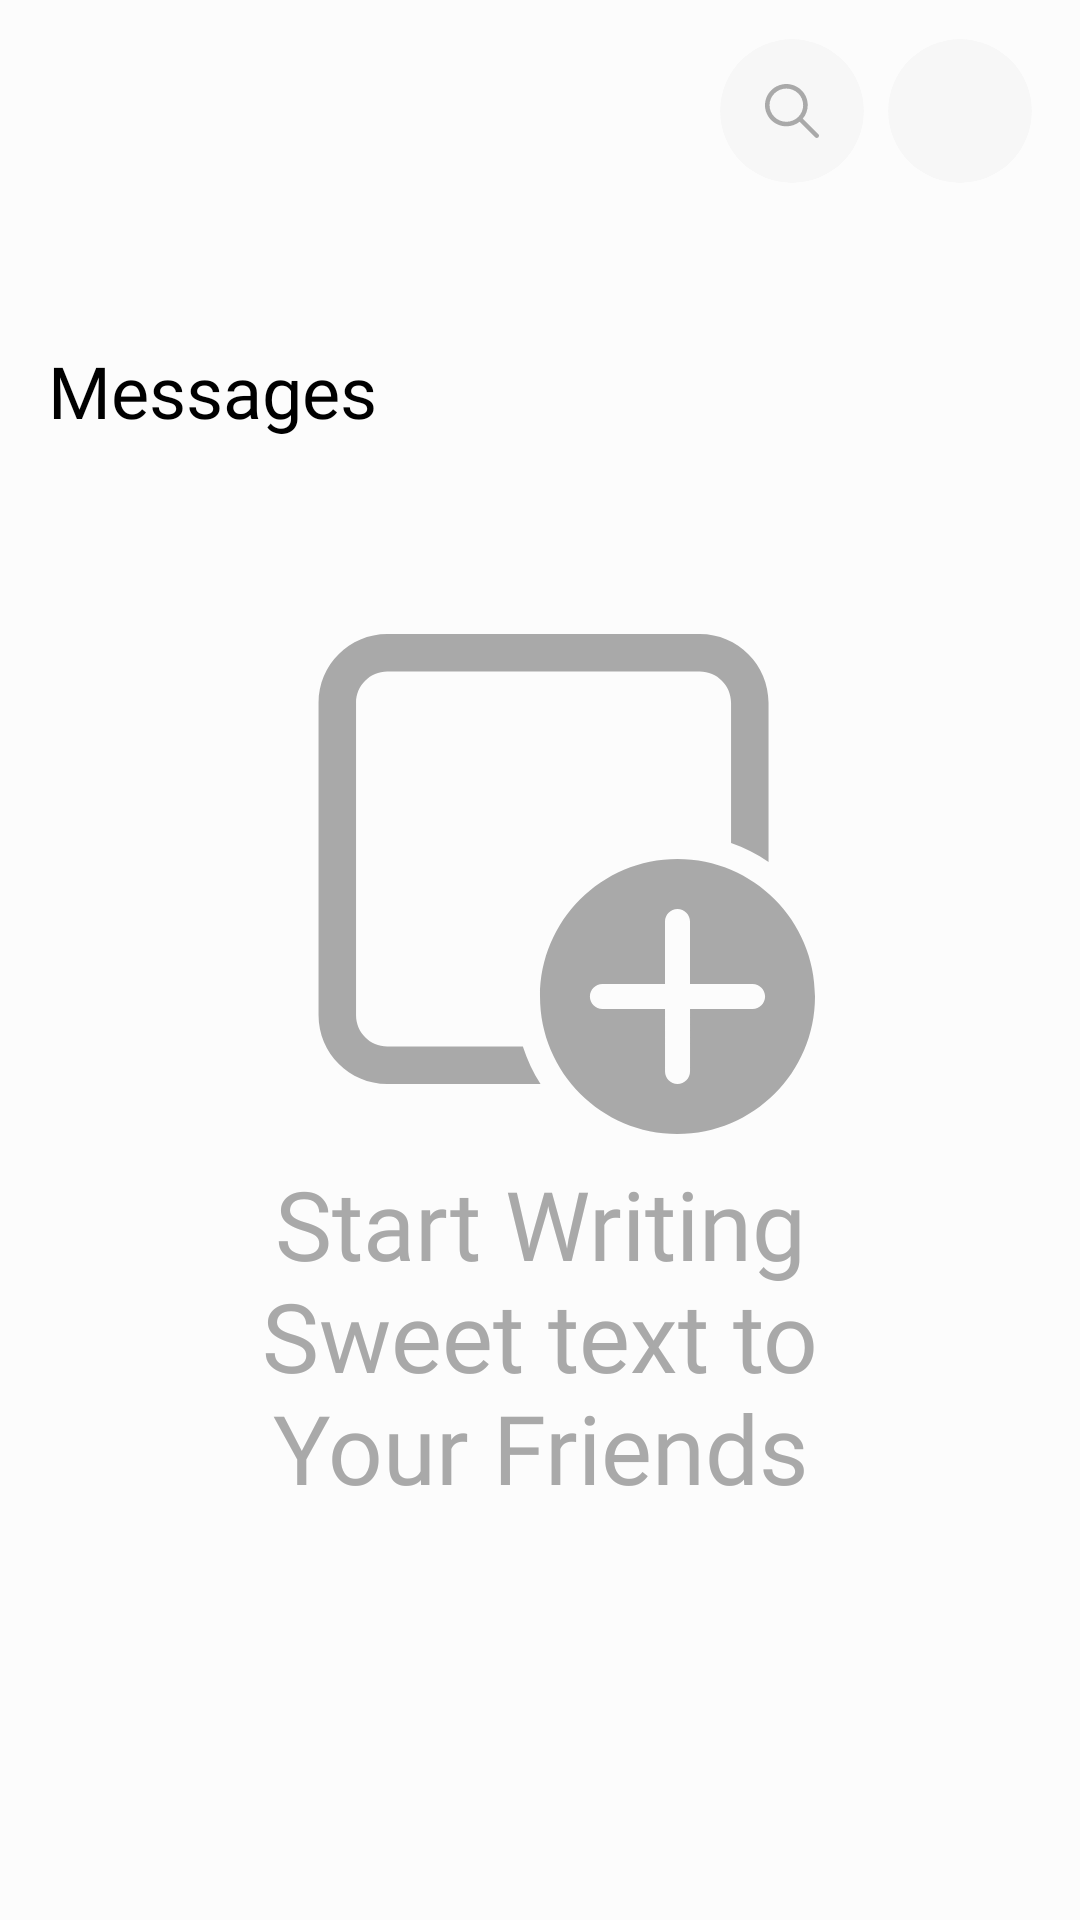

Screen size 1080 × 1920. Icon name, then its center in pixels as (x=x, y=y):
Search Icon: (x=792, y=111)
